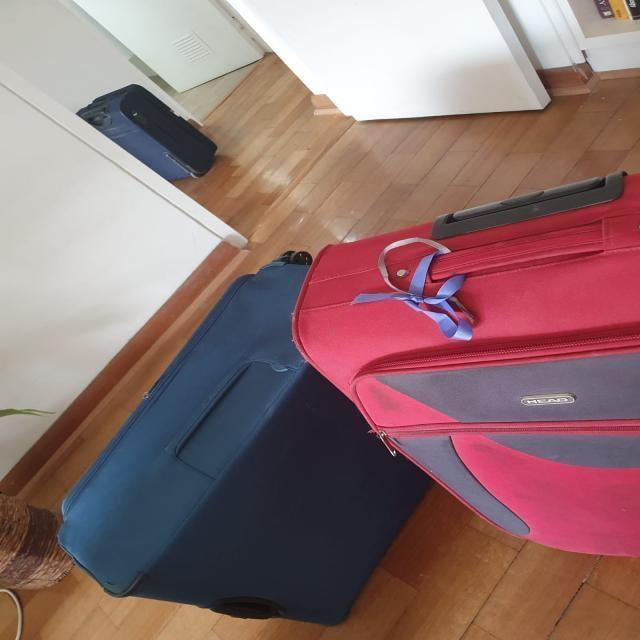Suitcase: (293, 169, 640, 564), (72, 250, 429, 631), (75, 82, 223, 190)
